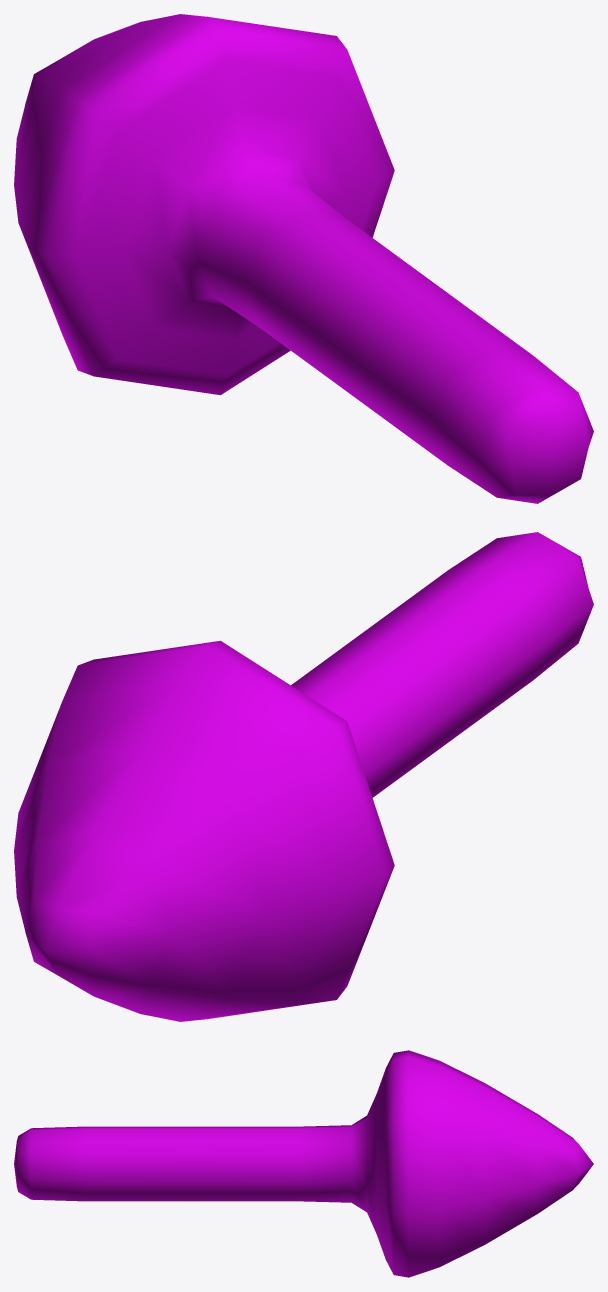
File: arrow.glb
The picture shows the model from 3 angles, top to bottom: view 1: azimuth 30°, elevation 25°; view 2: azimuth 150°, elevation 25°; view 3: azimuth 270°, elevation 25°; orthographic projection. The views are drawn at different scales.
Parts seen in each view (by area): view 1: Cube; view 2: Cube; view 3: Cube.
Part boxes in pixels (bbox=[...]): Cube: bbox=[14, 14, 593, 503]; Cube: bbox=[14, 532, 593, 1021]; Cube: bbox=[14, 1050, 593, 1277].
Bounding box in the file's own units: 1.13 × 1.13 × 2.78.
